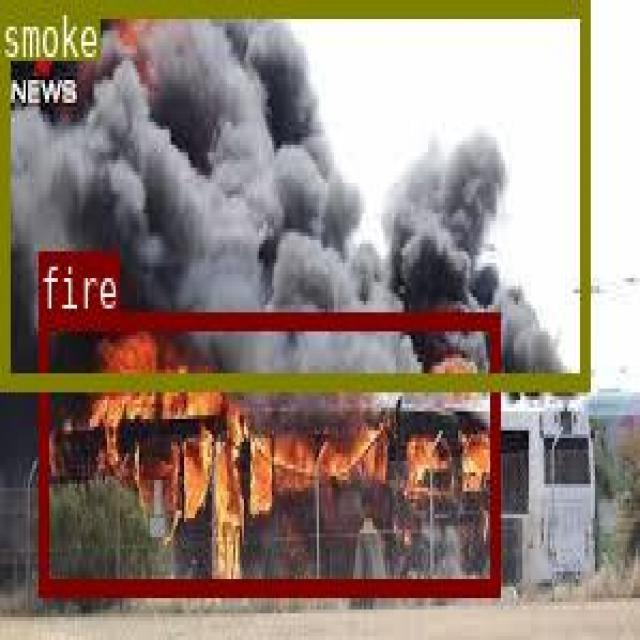fire: (38, 310, 498, 592)
smoke: (0, 0, 589, 385)
